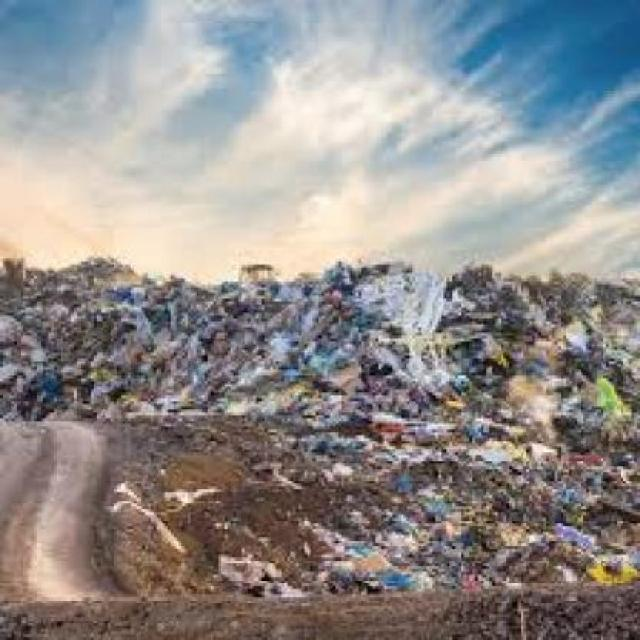garbage: (6, 265, 638, 408), (328, 401, 632, 584)
